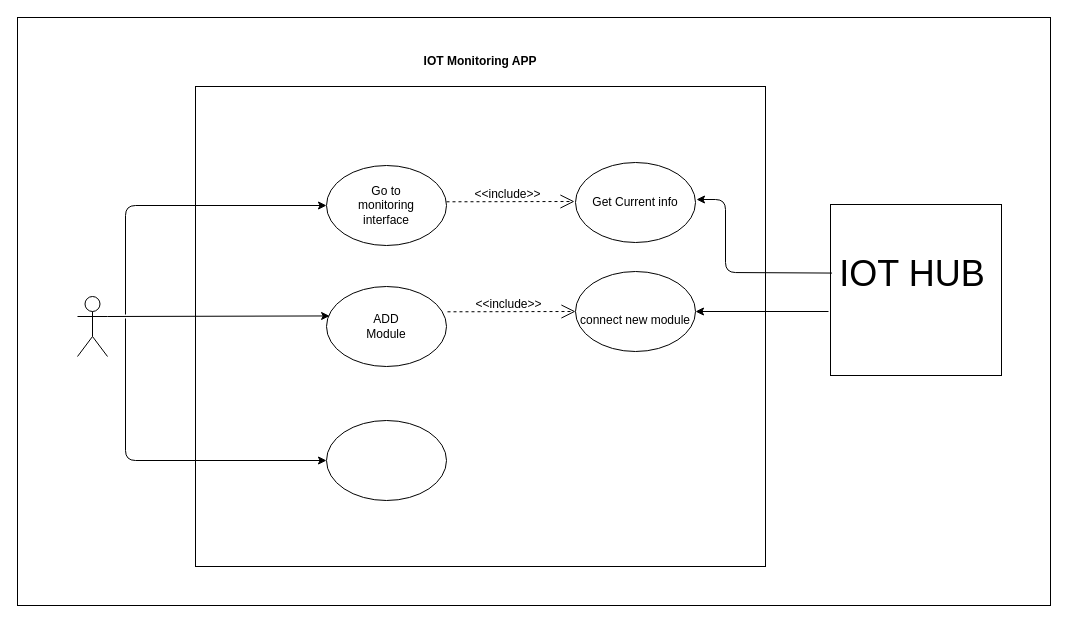
Image size: 1068x623. Some labels were removed from this diagram. Here are the shapes that lost their labels. From the top down, the centre of each, then its label:
At point (92, 326): "Actor".
At point (386, 460): "Check logs".
